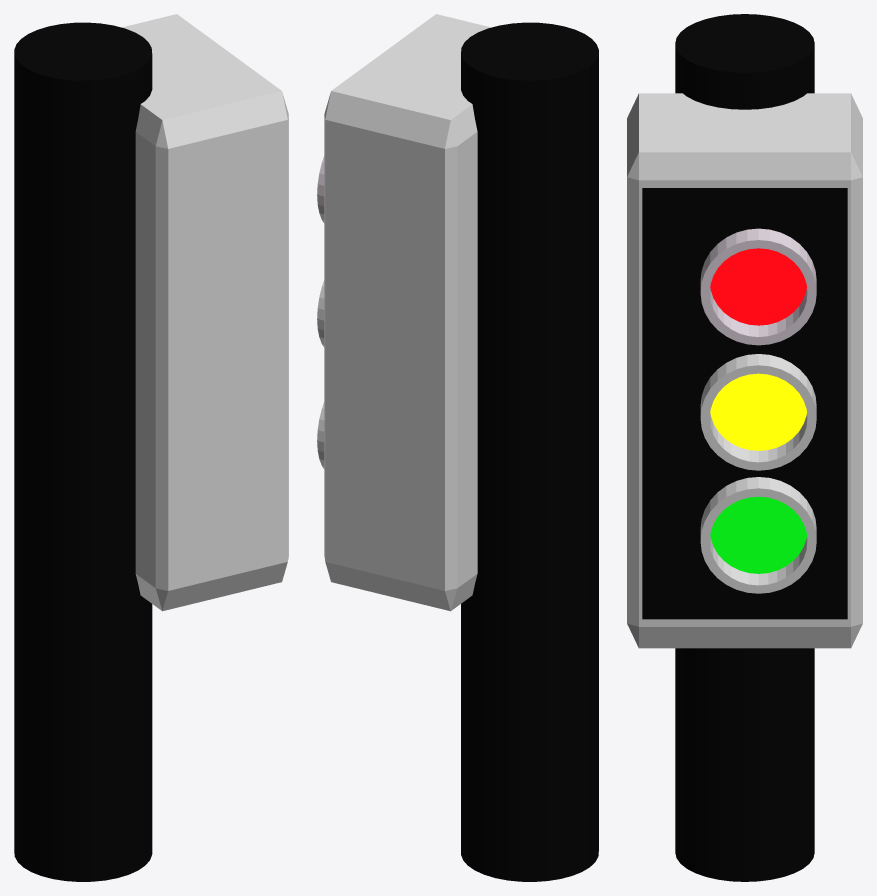
File: uk_traffic_light_1(lower).fbx
3 renders of one model, left to right at view 1: azimuth 30°, elevation 25°; view 2: azimuth 150°, elevation 25°; view 3: azimuth 270°, elevation 25°, orthographic.
Parts seen in each view (by area): view 1: Cylinder, Cube; view 2: Cylinder, Cube; view 3: Cube, Cylinder, Circle, Circle.002, Circle.001.
Boxes of the visible parts, box(x1,y1,x2,y2) form: Cylinder: box(14, 22, 152, 881); Cube: box(122, 14, 288, 611); Cylinder: box(461, 22, 598, 881); Cube: box(324, 14, 491, 611); Cube: box(627, 93, 862, 648); Cylinder: box(675, 14, 814, 881); Circle: box(700, 228, 816, 345); Circle.002: box(700, 477, 816, 593); Circle.001: box(700, 354, 816, 470).
Bounding box in the file's own units: 7.13 × 23.03 × 6.09.
